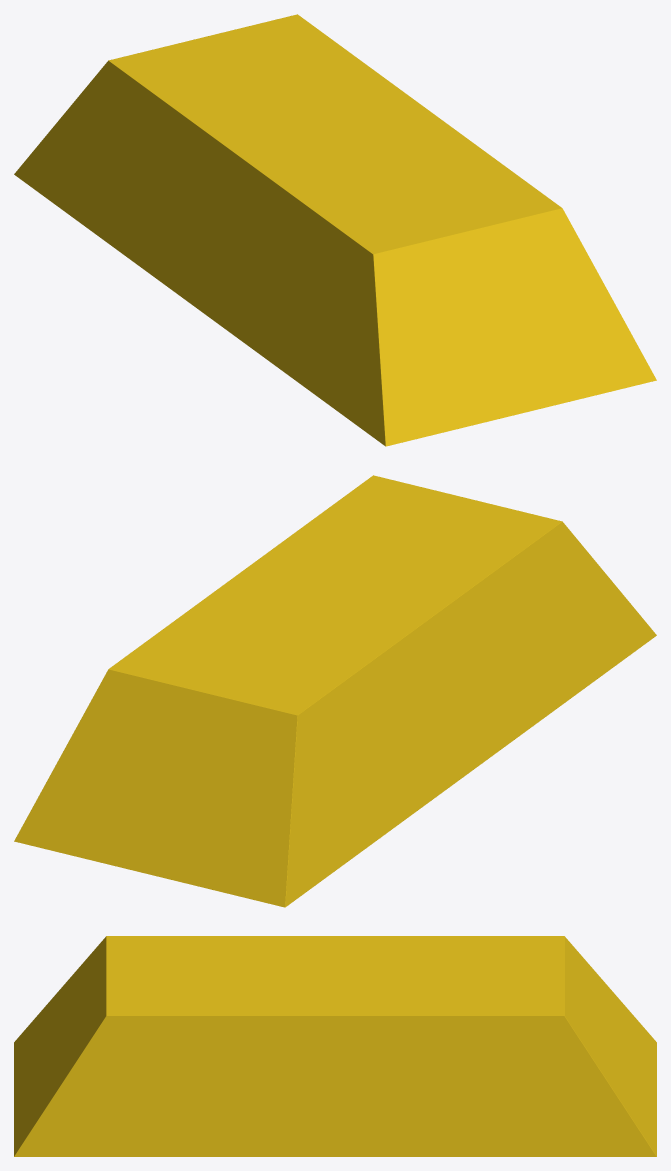
The model's file is Gold_Bar.fbx.
3 views of the same model, one above another, from view 1: azimuth 30°, elevation 25°; view 2: azimuth 150°, elevation 25°; view 3: azimuth 270°, elevation 25° (orthographic). The views are drawn at different scales.
Visible parts, largest first — view 1: Cube; view 2: Cube; view 3: Cube.
Boxes of the visible parts, box(x1,y1,x2,y2) form: Cube: box(14, 14, 656, 446); Cube: box(14, 475, 656, 907); Cube: box(14, 936, 656, 1156).
Bounding box in the file's own units: 8.43 × 4.25 × 20.02.
